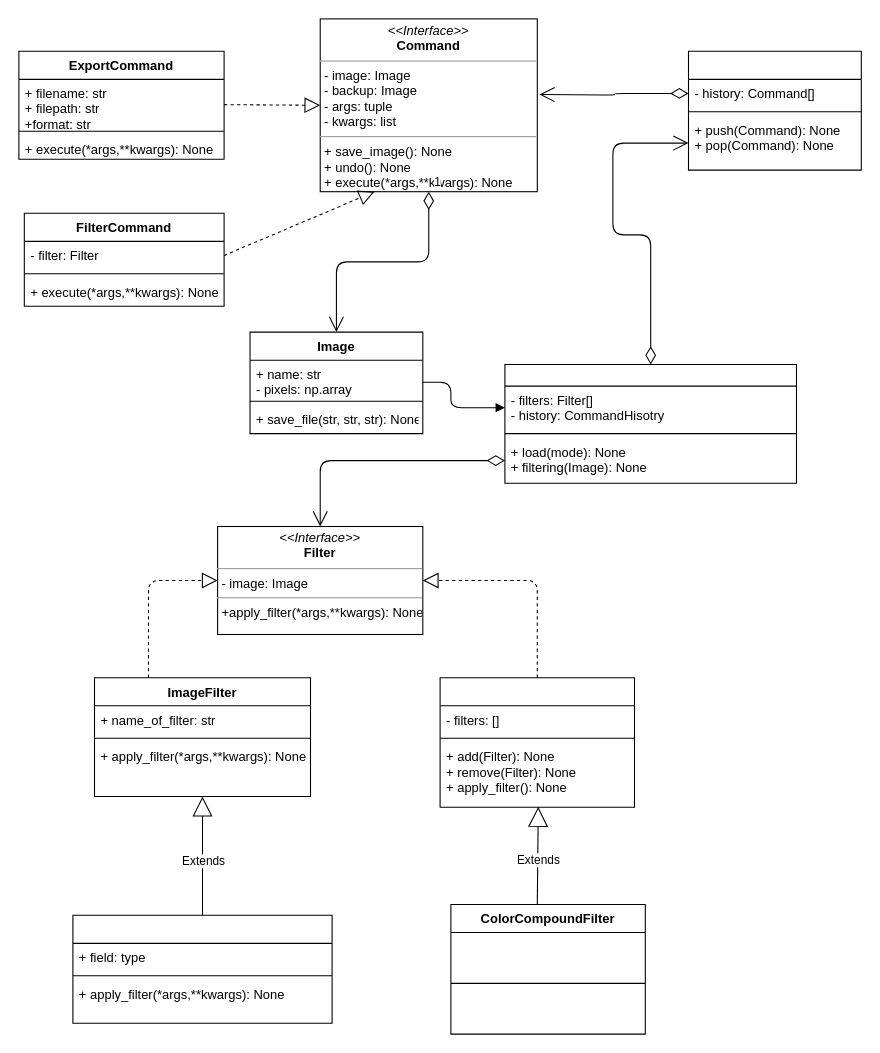
This 880x1053 diagram has some shape labels left out. Each missing label, with the box of its shape:
ColorBalanceFilter: (72, 914, 332, 1023)
CommandHistory: (687, 50, 861, 170)
CompoundFilter: (439, 677, 634, 807)
ImageEditor: (504, 363, 796, 483)
